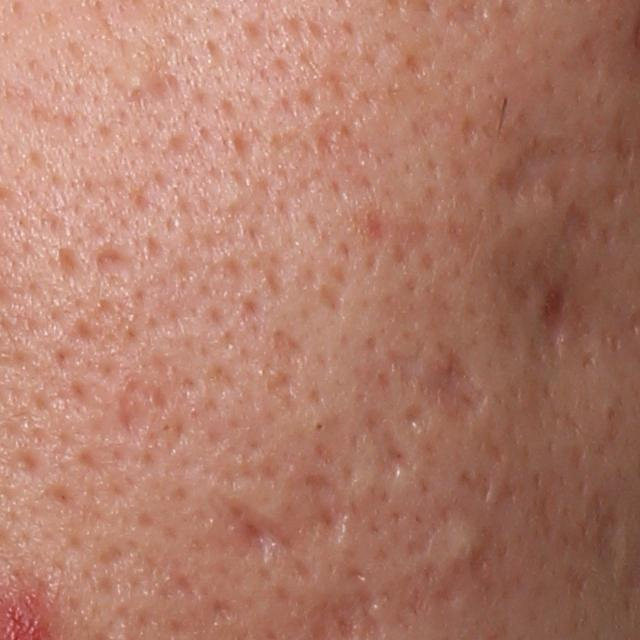atrophic_scar: (382, 334, 493, 430), (211, 490, 315, 589), (295, 471, 352, 548), (362, 404, 417, 482), (97, 386, 155, 448), (587, 491, 624, 588), (558, 204, 597, 267), (538, 282, 566, 354), (456, 466, 497, 503), (53, 246, 88, 288), (265, 367, 301, 405), (93, 245, 139, 274), (268, 328, 305, 362), (404, 404, 431, 433)
comedo: (308, 416, 328, 434)
hypertrophic_scar: (431, 515, 492, 561), (114, 60, 162, 106)
